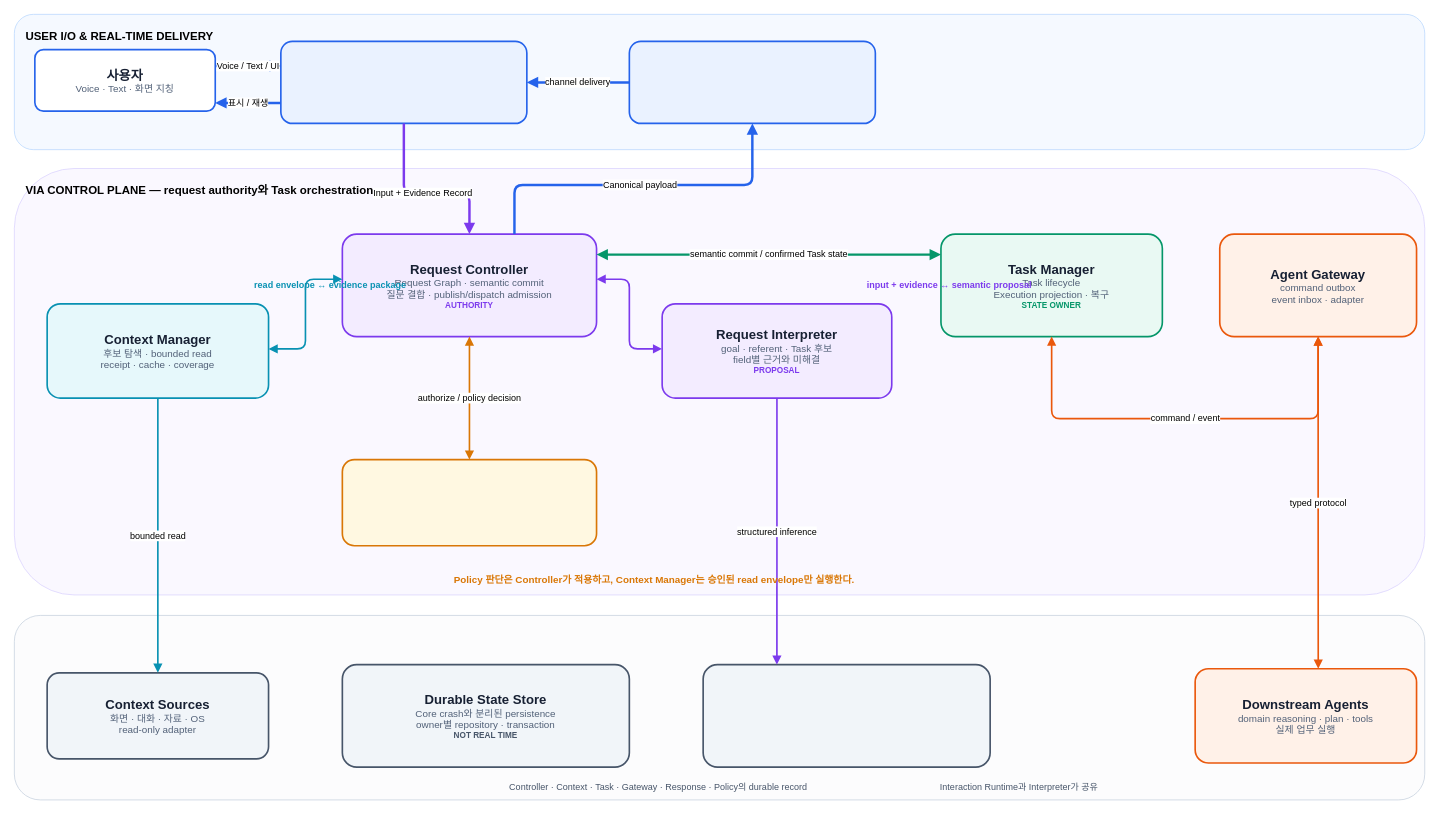
Image size: 1439x814. Some labels were removed from this diagram. The box of each missing label's shape, as (x1, y1, x2, y2) in pixels:
DURABLE INFRASTRUCTURE & EXTERNAL DEPENDENCIES: (14, 615, 1425, 800)
Interaction Runtime 입력·시점별 evidence S2S·barge-in·표시/재생 REAL TIME: (280, 40, 527, 124)
Model Access S2S 1개 · Semantic LLM 1개 shared queue · timeout · cancellation: (702, 663, 991, 768)
Policy Manager Context·Action 권한 · consent policy decision · revision: (341, 458, 597, 546)
Response Manager Canonical response payload publication · delivery 상태: (628, 40, 876, 124)
